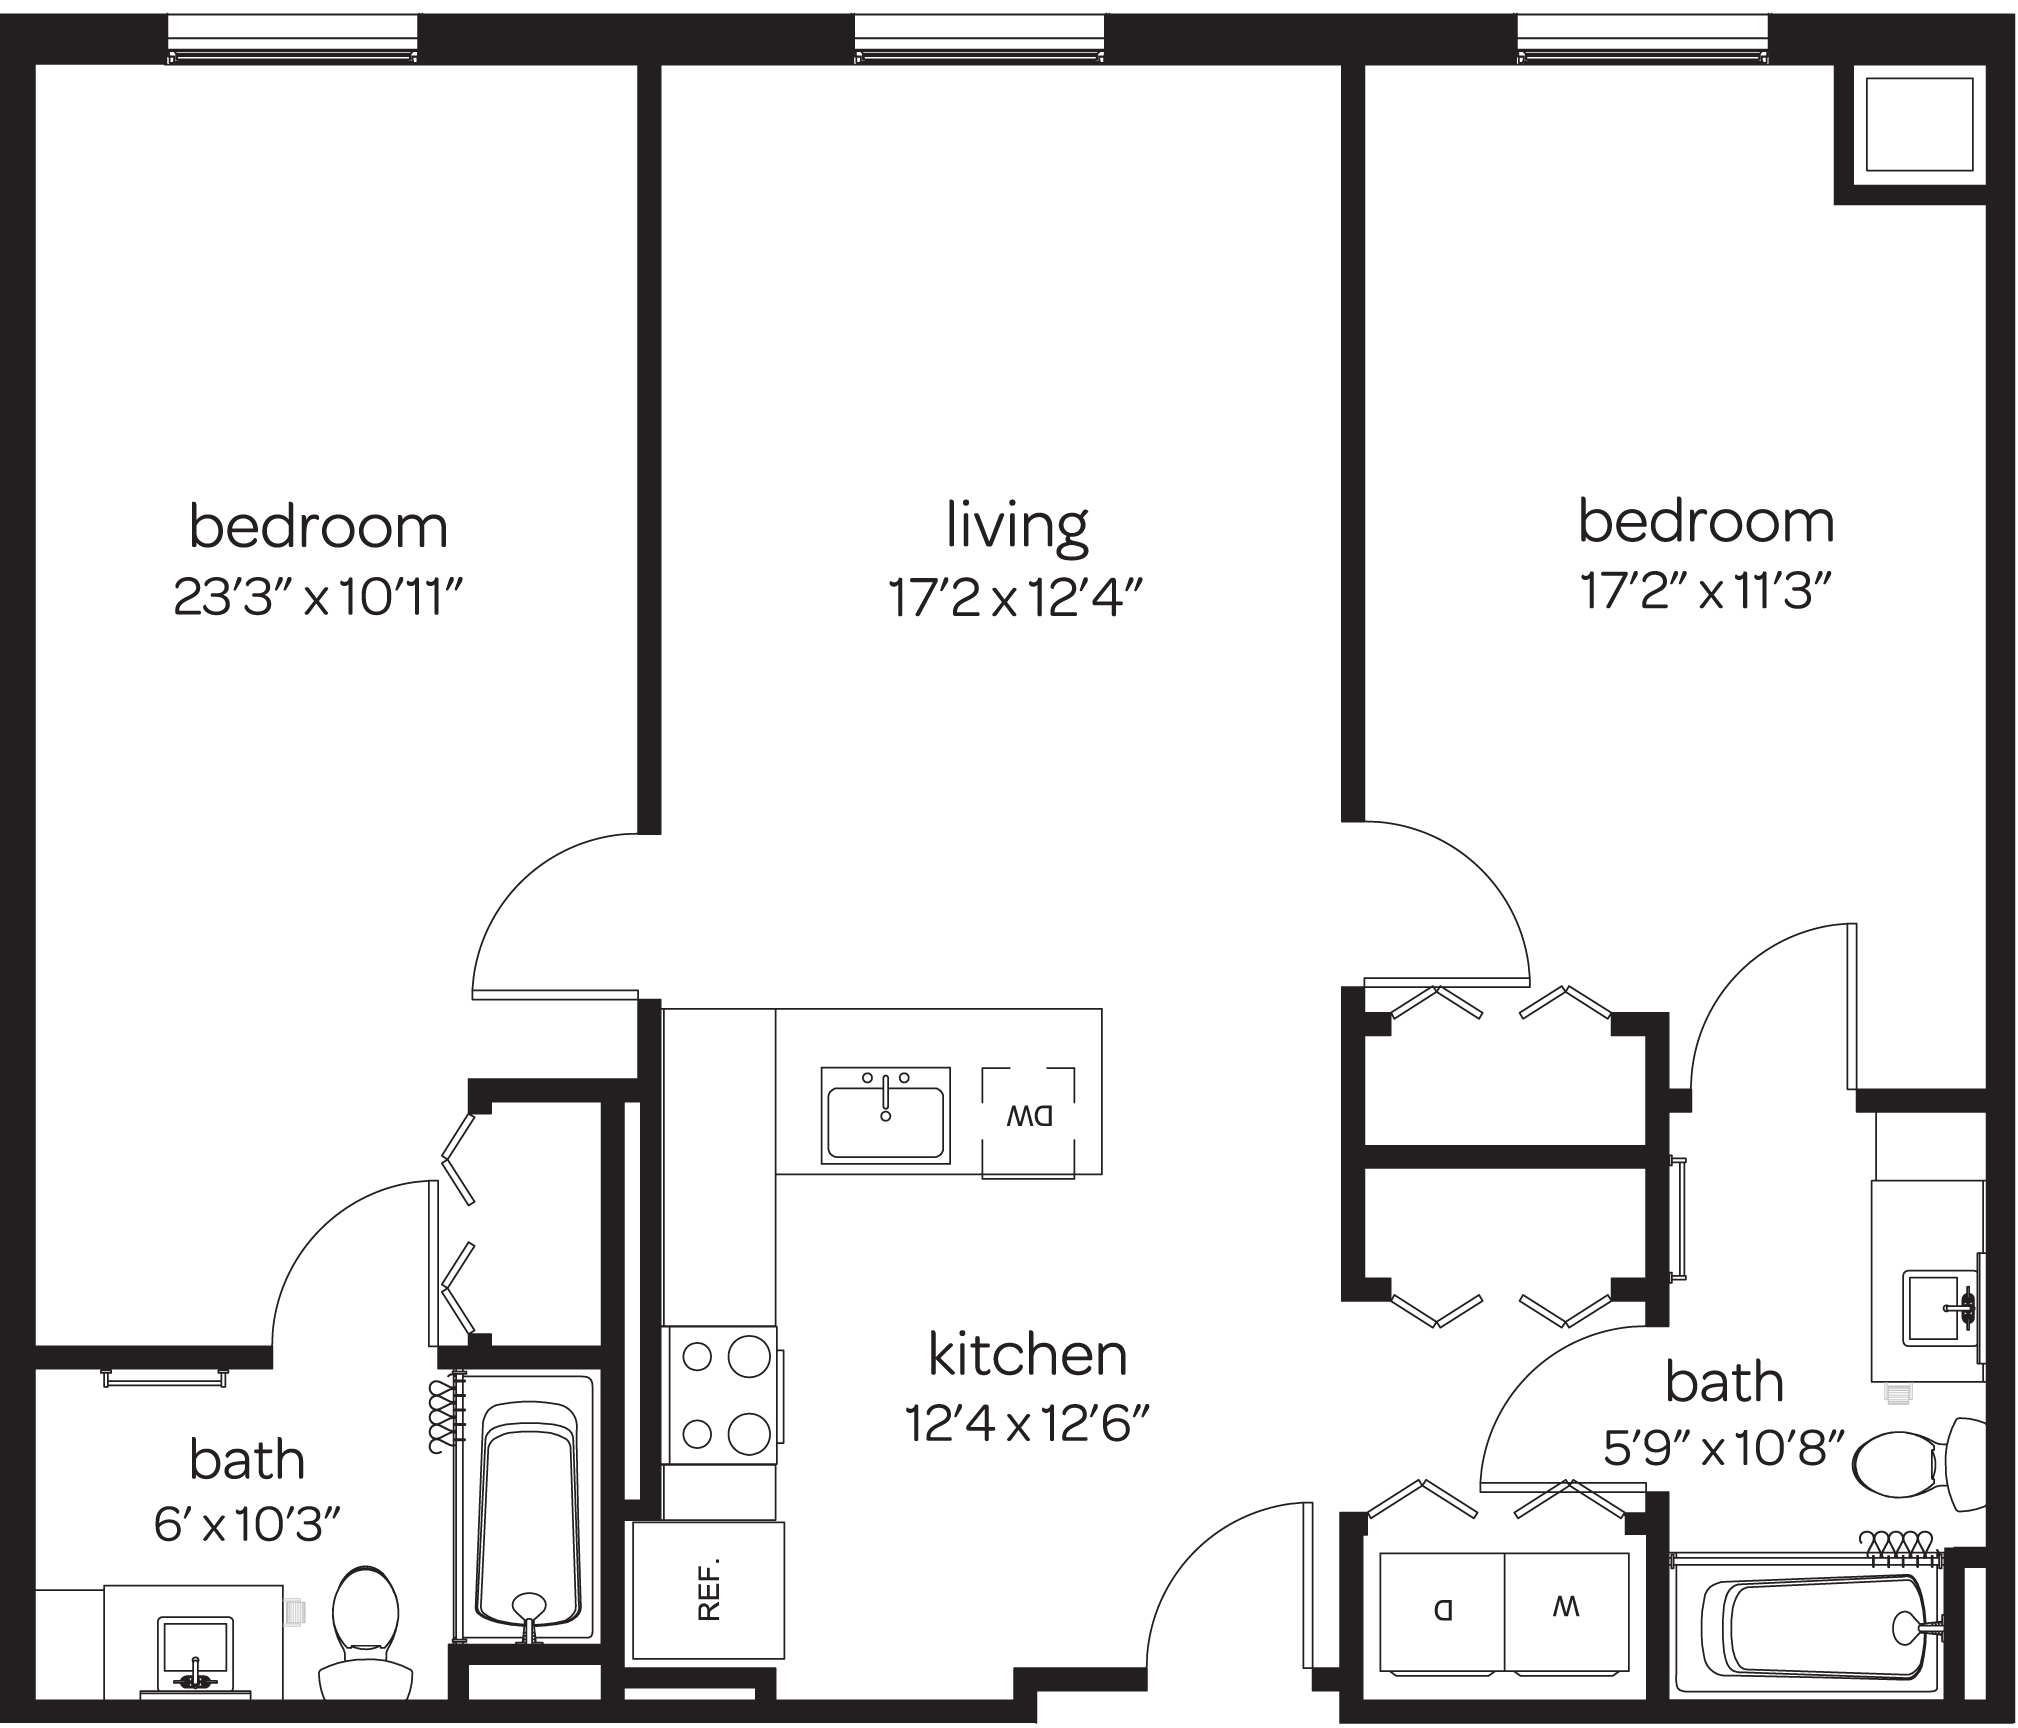room: (645, 3, 1372, 1721), (1341, 10, 2018, 1725), (629, 12, 1372, 821), (2, 9, 670, 845), (1378, 1323, 1992, 1567), (50, 1387, 444, 1702), (1679, 1131, 1984, 1305)
